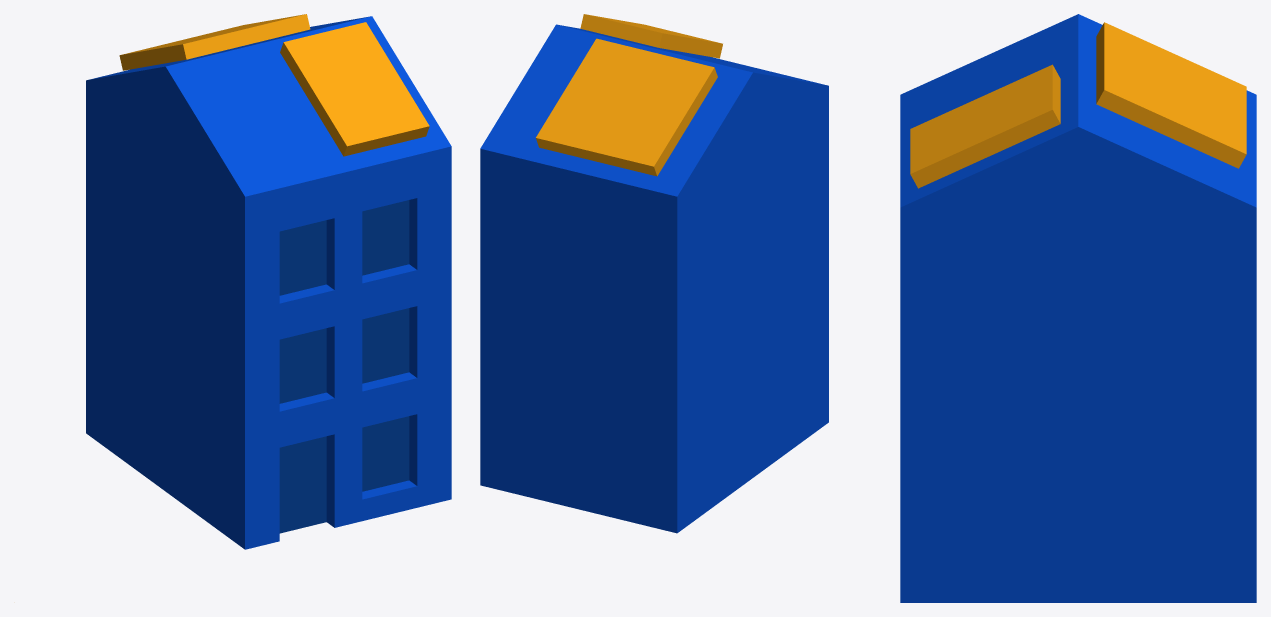
File: binaacilacak1.gltf
The picture shows the model from 3 angles, left to right: view 1: azimuth 30°, elevation 25°; view 2: azimuth 150°, elevation 25°; view 3: azimuth 270°, elevation 25°; orthographic projection. The views are drawn at different scales.
Visible parts, largest first — view 1: Building_021.022, Building_021.023, Building_021_RoofCap_0.003, Building_021.024, Building_021_RoofCap_1.003; view 2: Building_021.022, Building_021_RoofCap_1.003, Building_021_RoofCap_0.003; view 3: Building_021.022, Building_021_RoofCap_1.003, Building_021_RoofCap_0.003.
Boxes of the visible parts, x1=… form: Building_021.022: x1=86, y1=16, x2=451, y2=549; Building_021.023: x1=279, y1=200, x2=409, y2=491; Building_021_RoofCap_0.003: x1=280, y1=22, x2=429, y2=156; Building_021.024: x1=279, y1=436, x2=326, y2=533; Building_021_RoofCap_1.003: x1=119, y1=14, x2=310, y2=70; Building_021.022: x1=480, y1=24, x2=828, y2=533; Building_021_RoofCap_1.003: x1=536, y1=38, x2=717, y2=176; Building_021_RoofCap_0.003: x1=580, y1=14, x2=722, y2=58; Building_021.022: x1=900, y1=14, x2=1256, y2=602; Building_021_RoofCap_1.003: x1=1096, y1=22, x2=1246, y2=168; Building_021_RoofCap_0.003: x1=910, y1=64, x2=1060, y2=188.
Bounding box in the file's own units: 0.0544 × 0.0784 × 0.0435.
